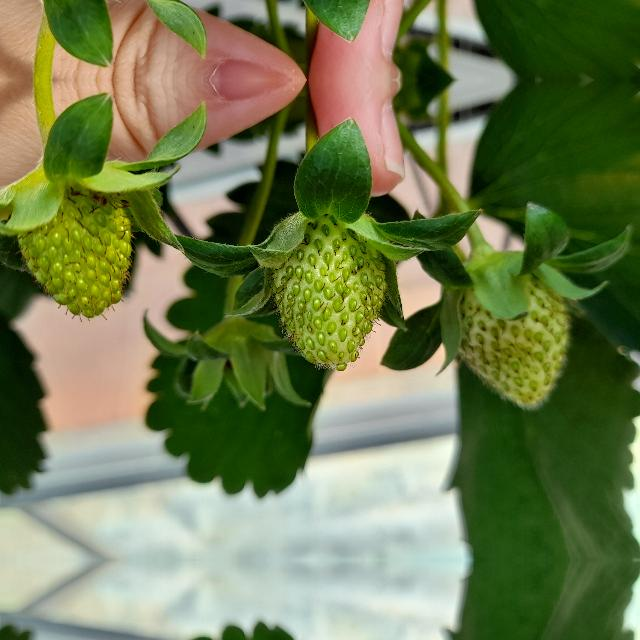Health_25: (270, 212, 388, 371), (445, 267, 571, 407), (16, 180, 136, 320)
